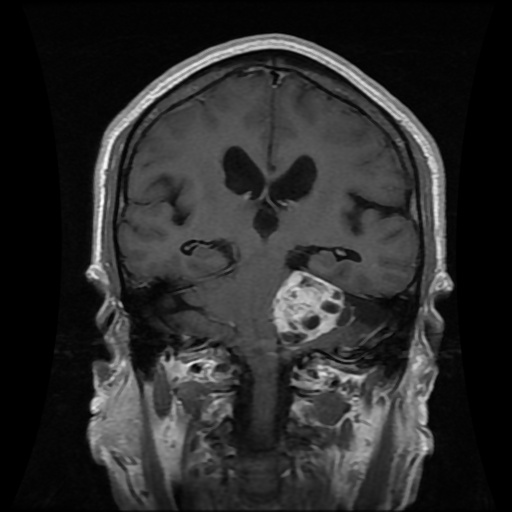meningioma: (272, 269, 344, 345)
